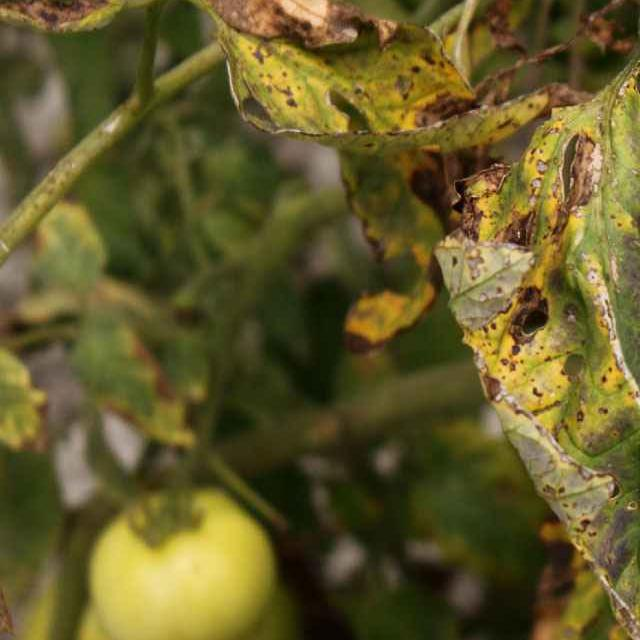Tomato Septoria leaf spot: (431, 0, 640, 640), (97, 0, 517, 155)
